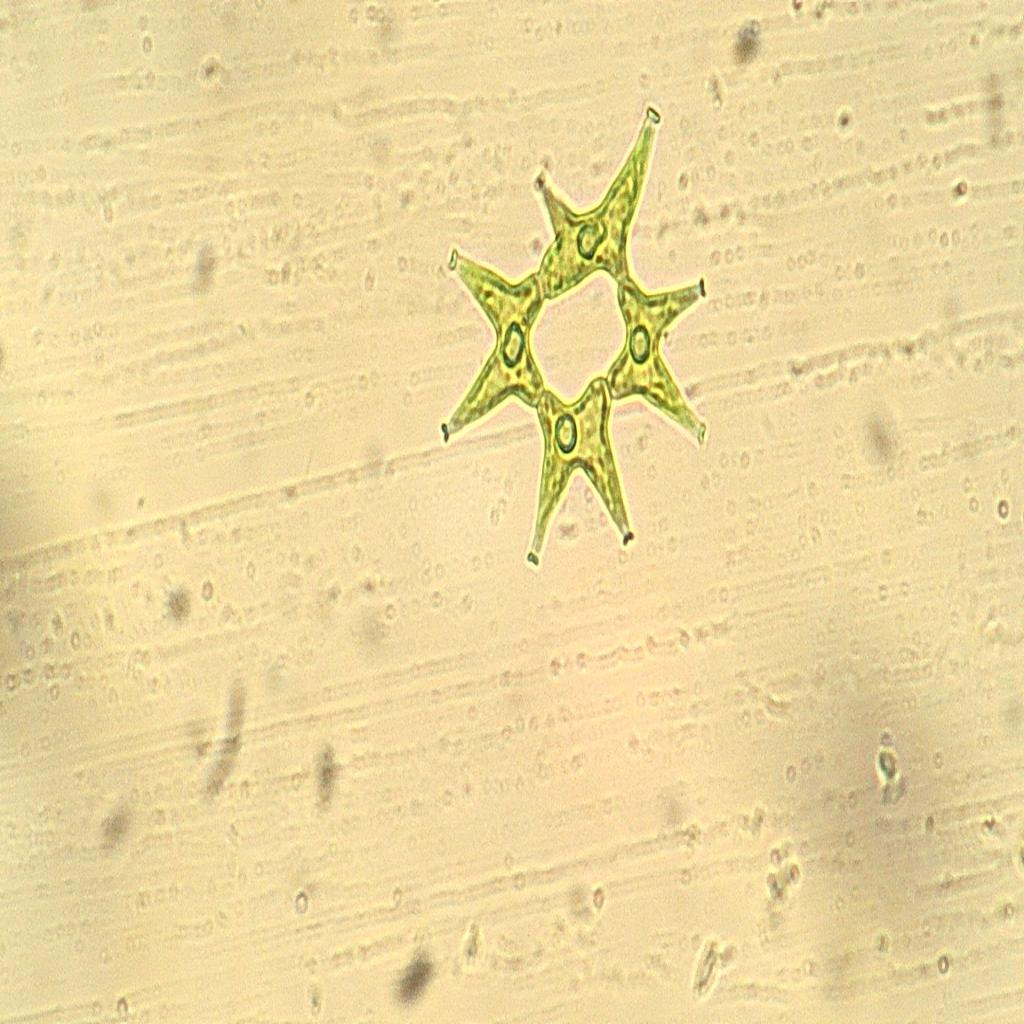Pediastrum_CO: (434, 100, 735, 585)
